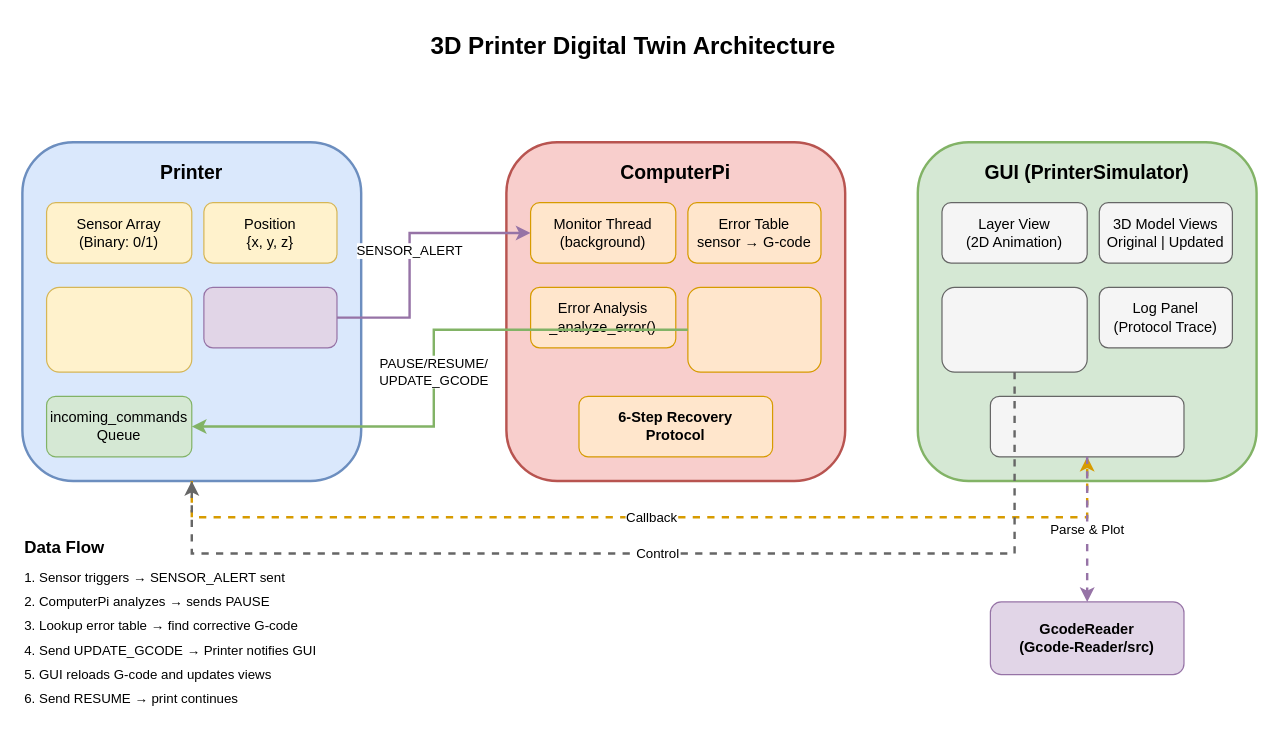
Some shapes in this 1278 by 731 pixel diagram are drawn without their labels. Each missing label, with the centre of its shape:
"Callbacks on_gcode_update" goes at (1086,426).
"Command Sender PAUSE/RESUME UPDATE_GCODE" goes at (754,329).
"Controls Start/Pause/Resume Trigger Sensor" goes at (1014,329).
"outgoing_data Queue" goes at (270,317).
"State is_printing is_paused current_layer" goes at (118,329).
